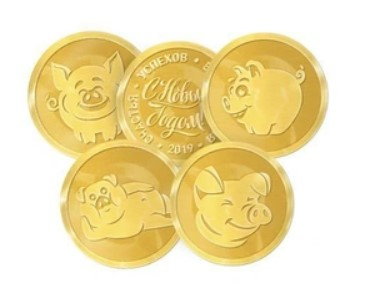coin: (202, 32, 329, 156), (171, 142, 296, 267), (59, 139, 178, 270), (27, 30, 142, 155), (117, 39, 217, 159)
